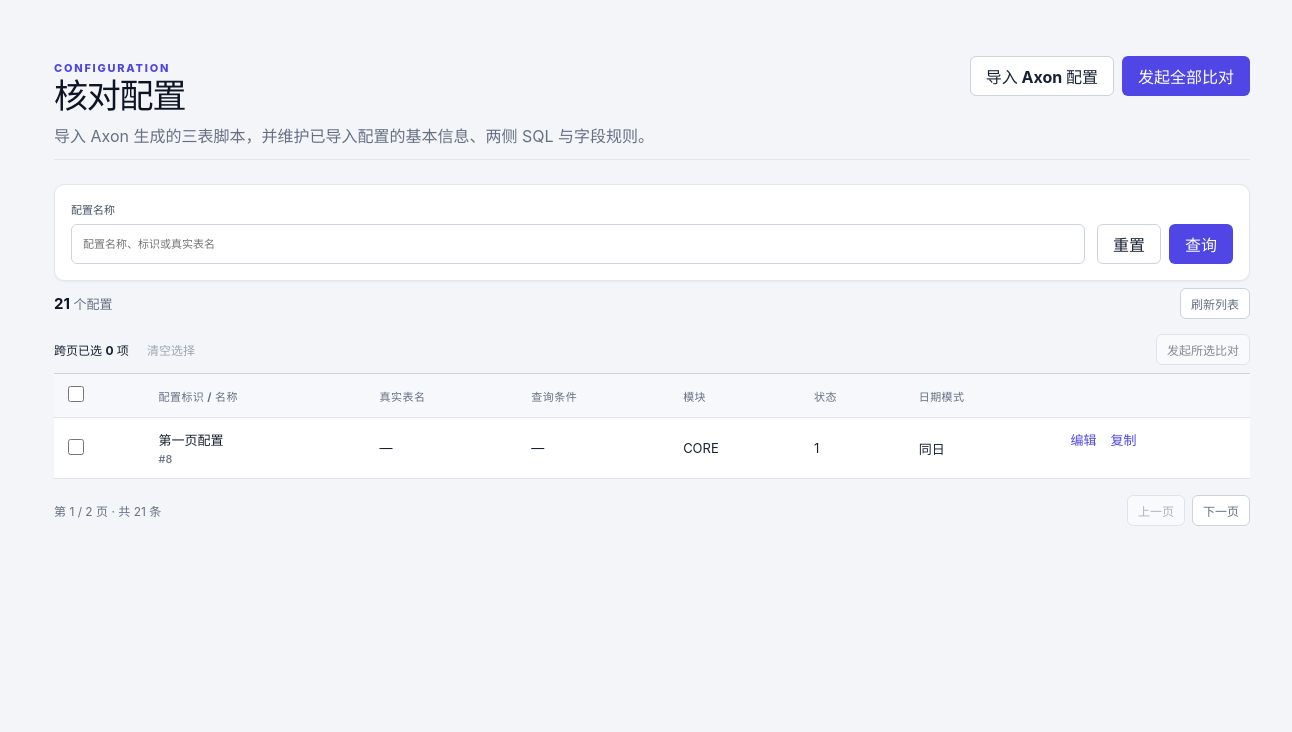
Test: keeps selections across configuration pages and passes every selected identifier to batch creation
Click the checkbox named "选择 第一页配置" at (76, 446), box left=68, top=438, right=84, bottom=454
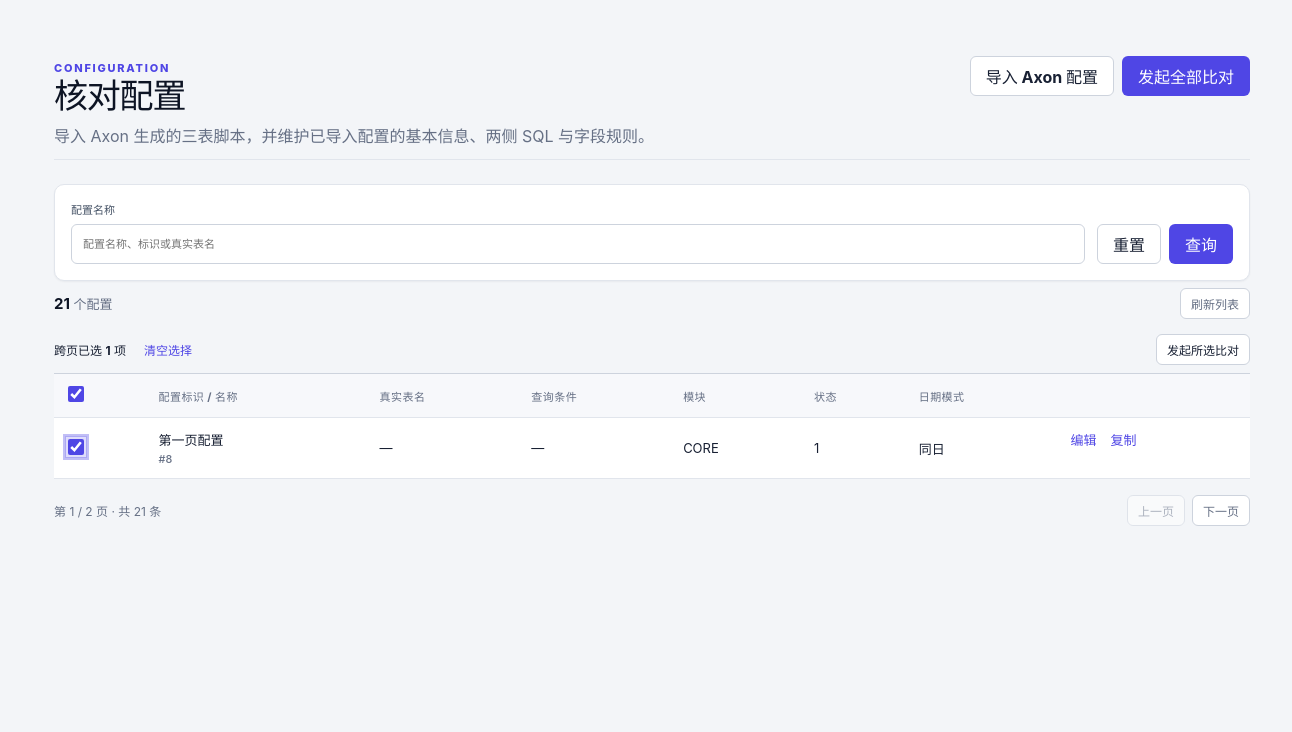
Click the button "下一页" at (1221, 510), box left=1192, top=495, right=1250, bottom=526
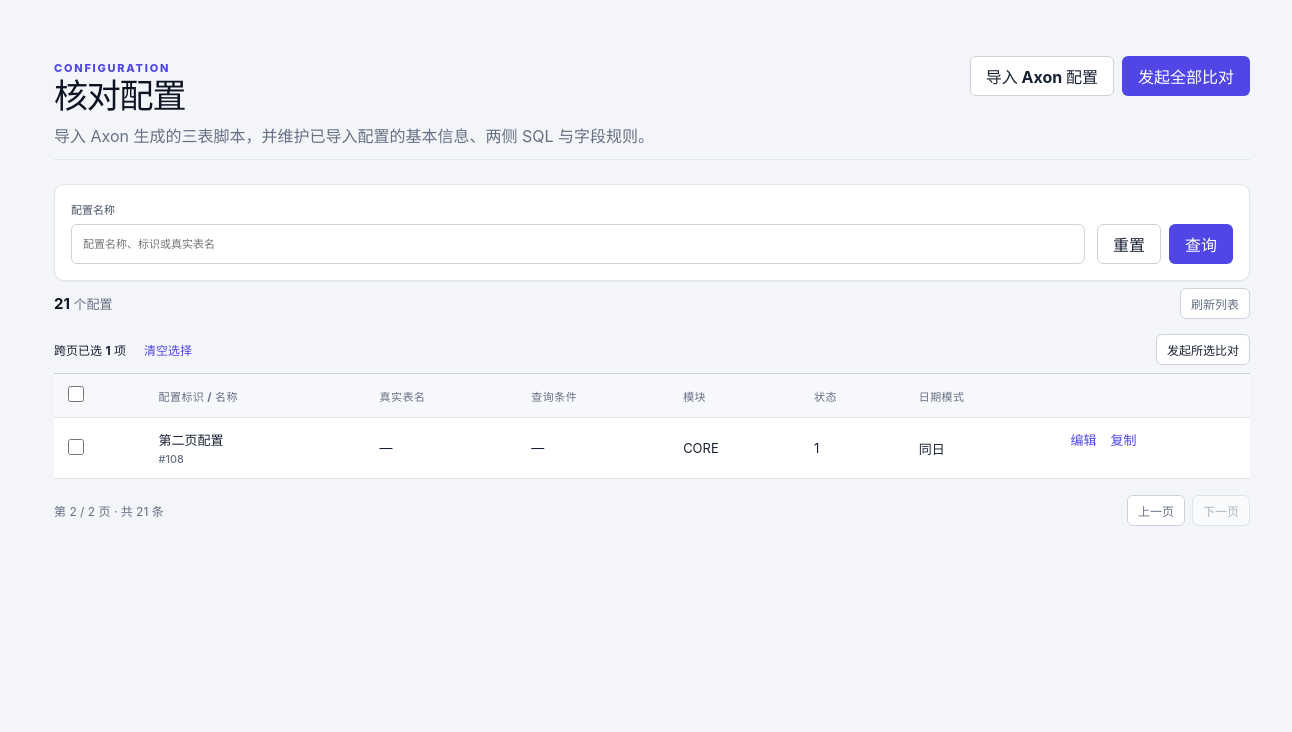
Click the checkbox named "选择 第二页配置" at (76, 446), box left=68, top=438, right=84, bottom=454
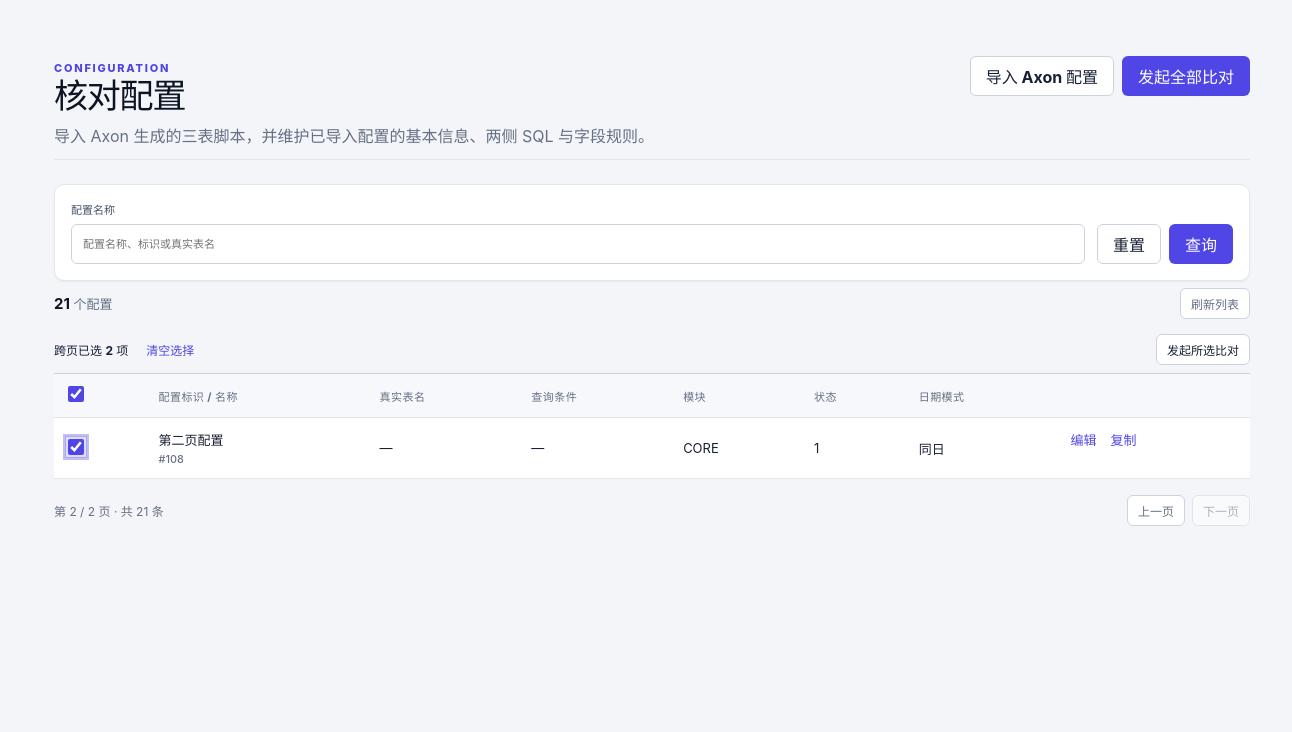
Click the button "上一页" at (1156, 510), box left=1127, top=495, right=1185, bottom=526
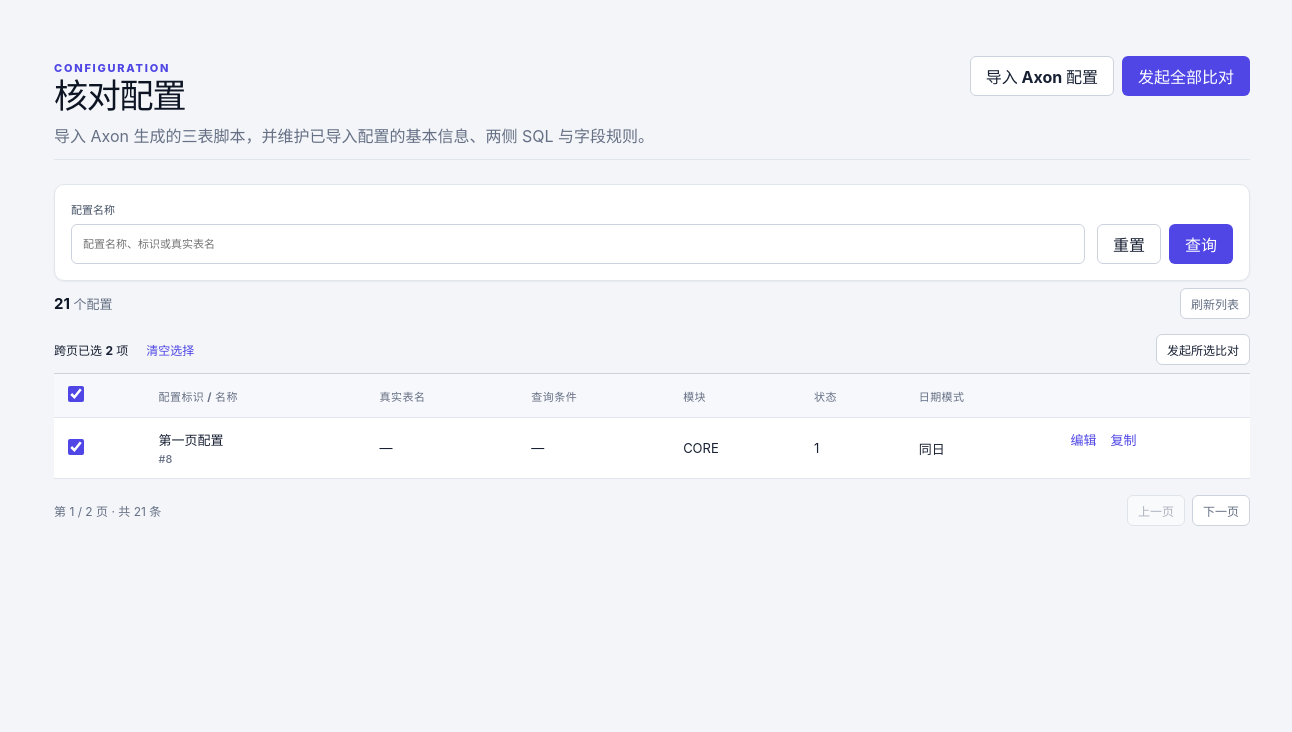
Check: the checkbox named "选择 第一页配置" is checked, box left=68, top=438, right=84, bottom=454
Click the button "发起所选比对" at (1203, 349), box left=1156, top=334, right=1250, bottom=364
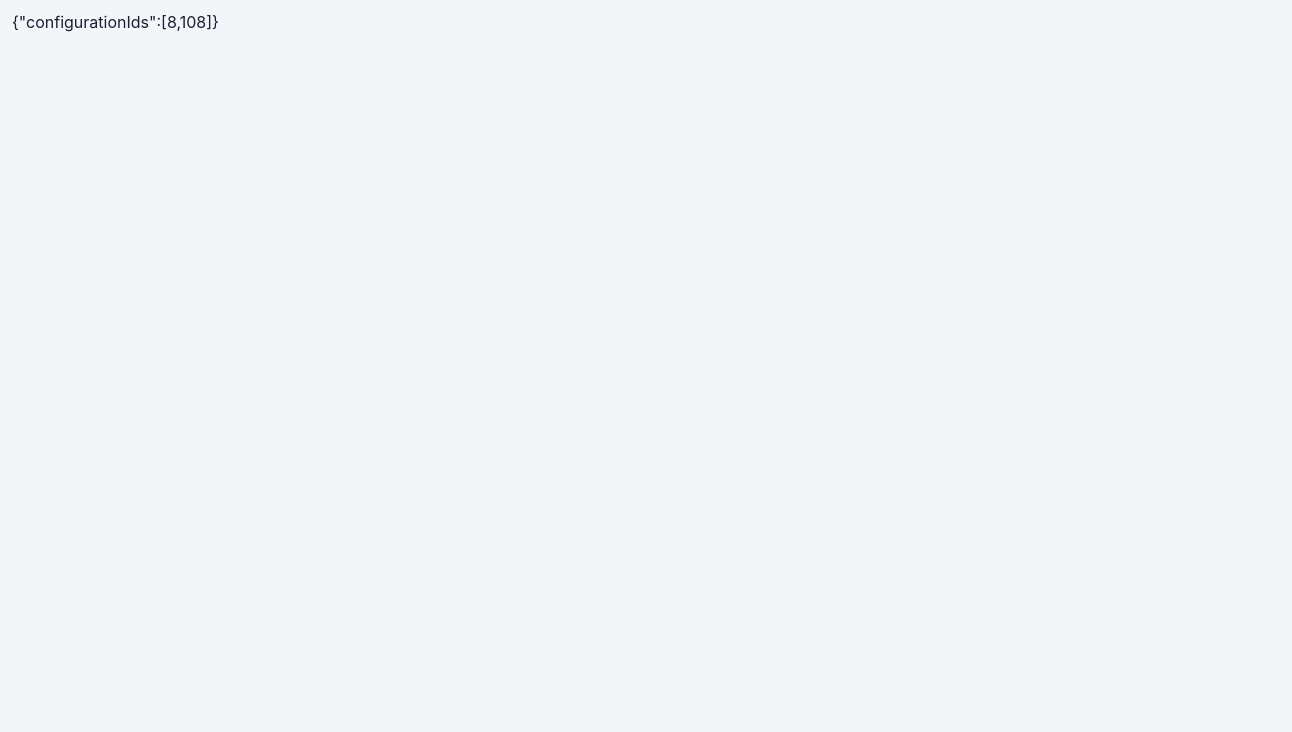
Check: the text with test id "selected-state" reads "{\"configurationIds\":[8,108]}", box left=12, top=12, right=219, bottom=32
